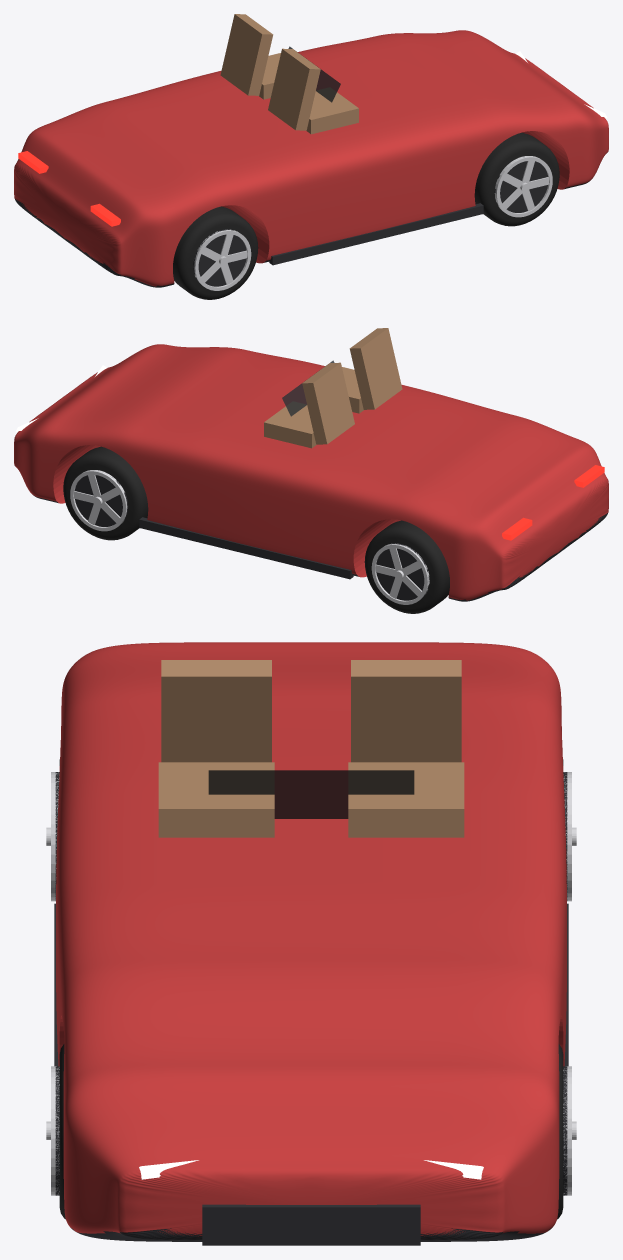
The model's file is spider.glb.
3 renders of one model, top to bottom at view 1: azimuth 30°, elevation 25°; view 2: azimuth 150°, elevation 25°; view 3: azimuth 270°, elevation 25°, orthographic. The views are drawn at different scales.
Visible parts, largest first — view 1: Body, Cylinder.004, Cylinder.012, Cube.034, Cube.032, Cube.030, Cube.033, Cylinder.005, Cylinder.013, Cylinder.014, Cylinder.006, Cube.031 (+1 smaller); view 2: Body, Cylinder, Cylinder.008, Cube.032, Cube.034, Cube.029, Cube.031, Cylinder.001, Cylinder.009, Cylinder.002, Cylinder.010, Cube.033 (+1 smaller); view 3: Body, Cube.032, Cube.034, Cube.028, Cube.031, Cube.033, Plane, Cylinder.008, Cylinder.012, Cylinder.014, Cylinder.010.
Boxes of the visible parts, box(x1,y1,x2,y2) form: Body: box(14, 30, 608, 287); Cylinder.004: box(173, 206, 258, 299); Cylinder.012: box(474, 132, 559, 226); Cube.034: box(268, 48, 320, 130); Cube.032: box(220, 14, 273, 95); Cube.030: box(269, 203, 483, 265); Cube.033: box(306, 88, 358, 134); Cylinder.005: box(193, 229, 246, 286); Cylinder.013: box(494, 156, 548, 212); Cylinder.014: box(494, 156, 552, 217); Cylinder.006: box(194, 229, 251, 290); Cube.031: box(259, 53, 280, 99); Body: box(14, 344, 608, 601); Cylinder: box(364, 520, 449, 613); Cylinder.008: box(63, 446, 148, 540); Cube.032: box(302, 362, 354, 444); Cube.034: box(349, 328, 402, 409); Cube.029: box(139, 517, 353, 579); Cube.031: box(264, 402, 316, 448); Cylinder.001: box(376, 543, 429, 600); Cylinder.009: box(74, 475, 128, 526); Cylinder.002: box(371, 543, 429, 604); Cylinder.010: box(70, 470, 127, 531); Cube.033: box(342, 367, 363, 413); Body: box(56, 642, 566, 1241); Cube.032: box(351, 660, 461, 762); Cube.034: box(161, 660, 271, 762); Cube.028: box(202, 1204, 420, 1245); Cube.031: box(348, 762, 464, 837); Cube.033: box(158, 762, 274, 837); Plane: box(208, 770, 414, 818); Cylinder.008: box(557, 1044, 563, 1219); Cylinder.012: box(59, 1044, 65, 1219); Cylinder.014: box(51, 1066, 59, 1195); Cylinder.010: box(563, 1066, 571, 1195).
Bounding box in the file's own units: 4.42 × 1.55 × 2.01.
